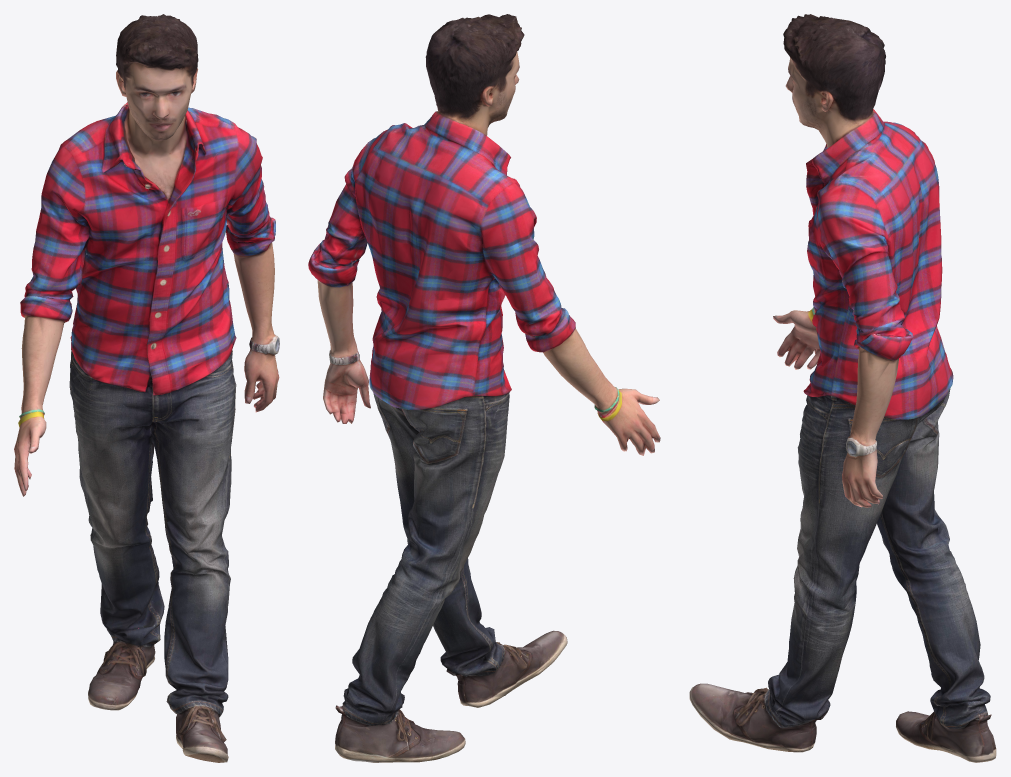
File: man.dae
The picture shows the model from 3 angles, left to right: view 1: azimuth 30°, elevation 25°; view 2: azimuth 150°, elevation 25°; view 3: azimuth 270°, elevation 25°; orthographic projection. The views are drawn at different scales.
Visible parts, largest first — view 1: man; view 2: man; view 3: man.
Boxes of the visible parts, x1,y1,x2,y2 form: man: [14, 14, 279, 762]; man: [308, 14, 660, 762]; man: [689, 14, 996, 762].
Size of the model in its own units: 76.47 by 173 by 67.26.
